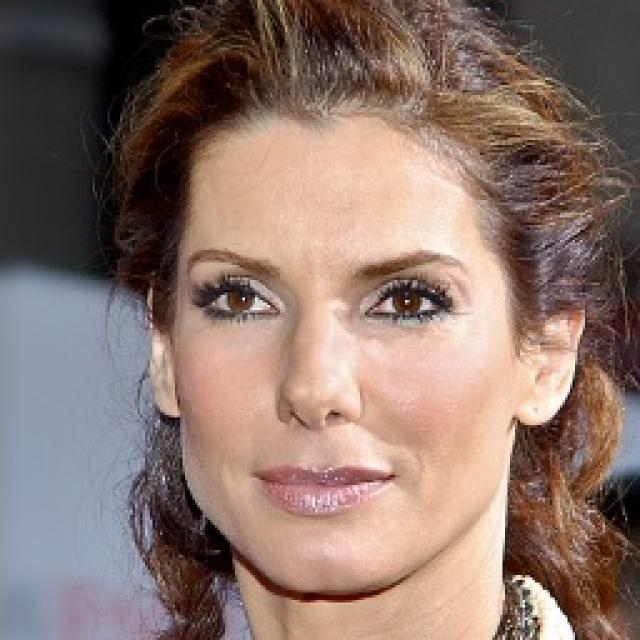no-glasses: (176, 250, 473, 348)
